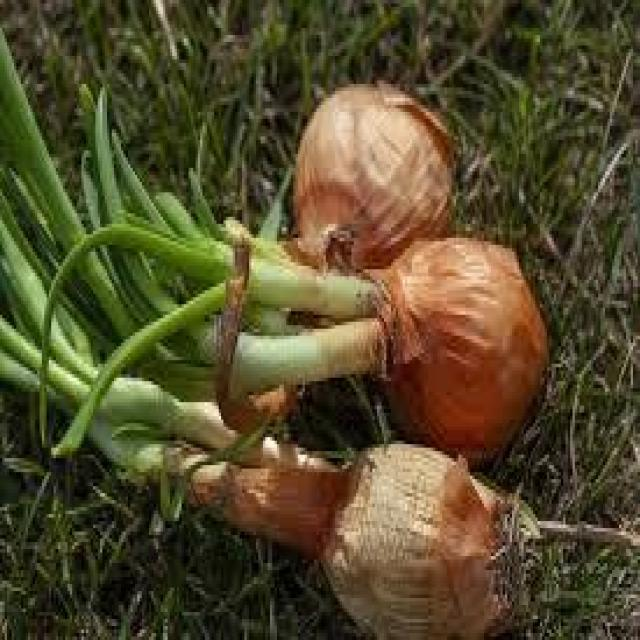Onion: (0, 25, 382, 514), (293, 437, 563, 640), (380, 238, 550, 462), (298, 77, 472, 259)
